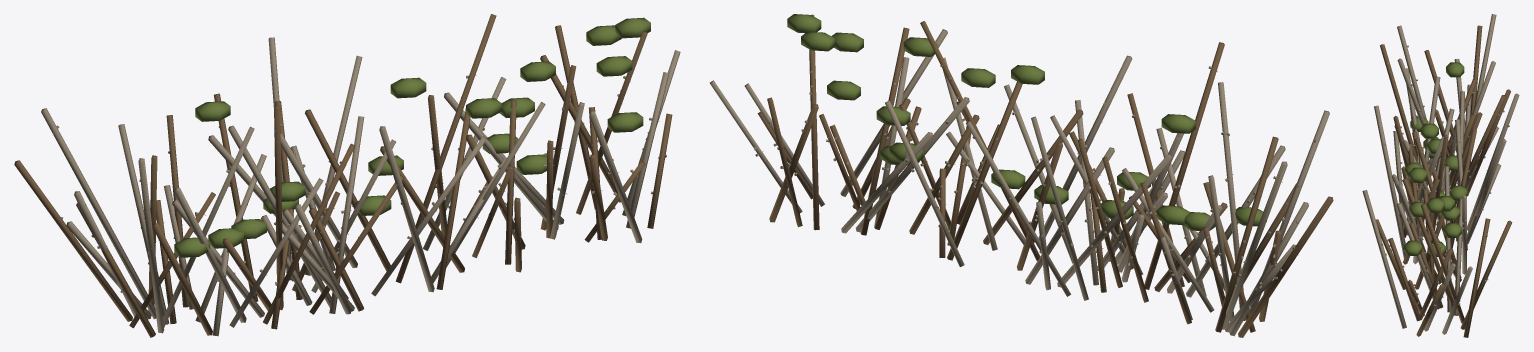
The model's file is dornenhecke.glb.
3 renders of one model, left to right at view 1: azimuth 30°, elevation 25°; view 2: azimuth 150°, elevation 25°; view 3: azimuth 270°, elevation 25°, orthographic. The views are drawn at different scales.
Visible parts, largest first — view 1: Cone; view 2: Cone; view 3: Cone.
Boxes of the visible parts, x1,y1,x2,y2 form: Cone: (14,14,680,337); Cone: (710,14,1333,337); Cone: (1362,14,1519,337).
Size of the model in its own units: 3.85 by 1.35 by 1.19.
